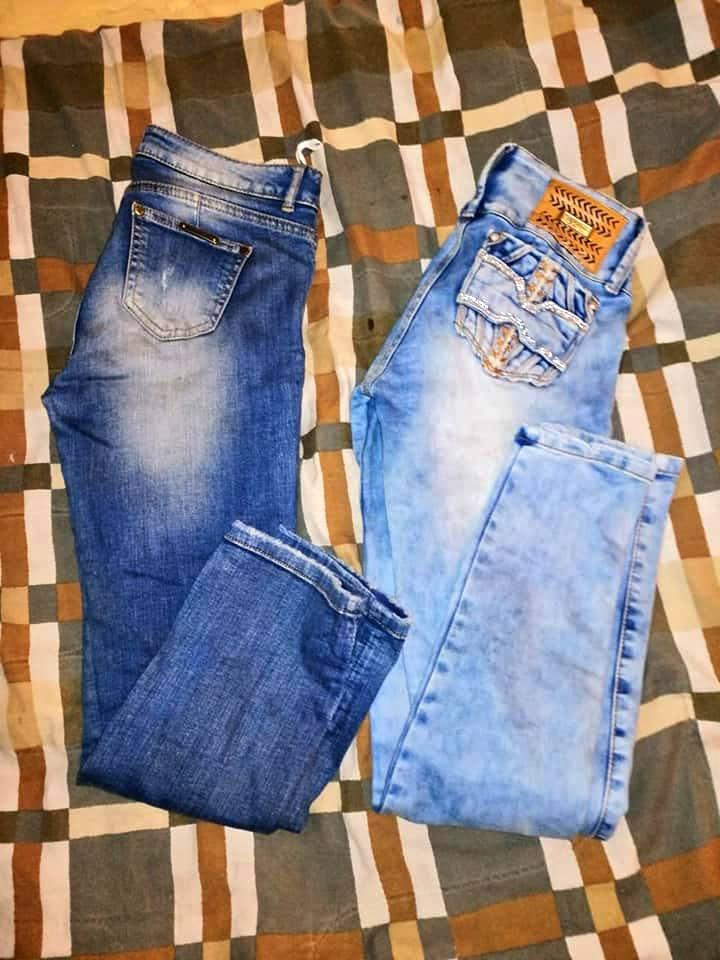Jeans: (30, 115, 424, 846)
